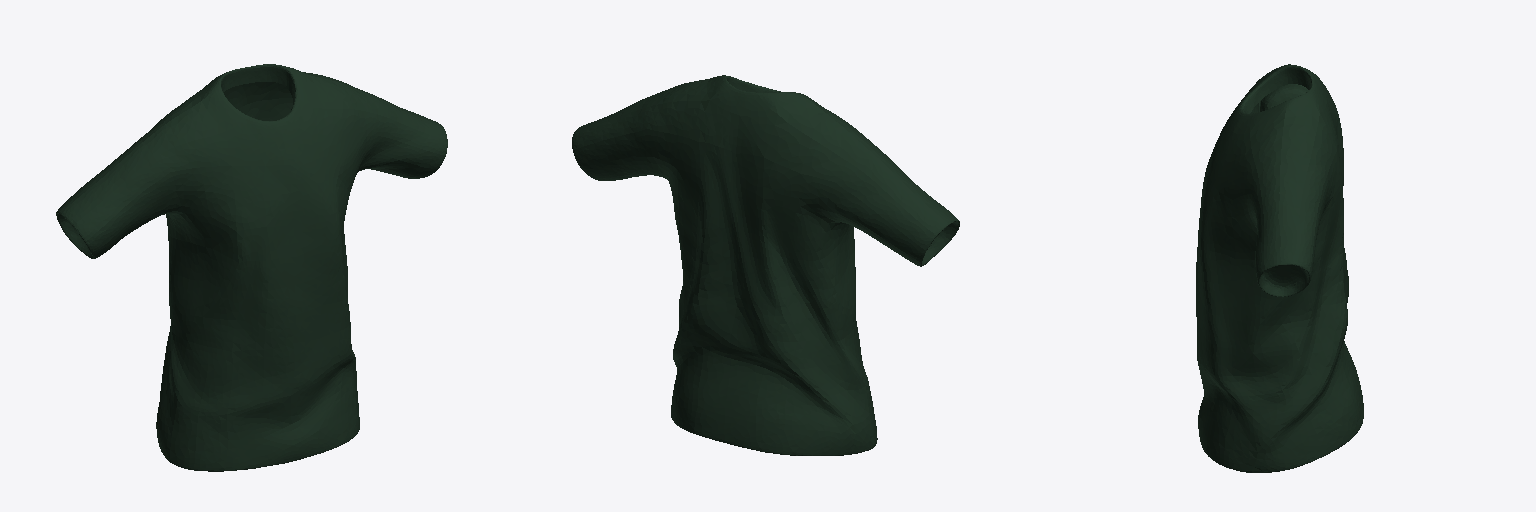
File: shirt_grey.obj
The picture shows the model from 3 angles: view 1: azimuth 30°, elevation 25°; view 2: azimuth 150°, elevation 25°; view 3: azimuth 270°, elevation 25°; orthographic projection.
Parts seen in each view (by area): view 1: 22_GOREPORT_1_20_30; view 2: 22_GOREPORT_1_20_30; view 3: 22_GOREPORT_1_20_30.
Boxes of the visible parts, box(x1,y1,x2,y2) form: 22_GOREPORT_1_20_30: box(56, 64, 447, 471); 22_GOREPORT_1_20_30: box(572, 75, 959, 455); 22_GOREPORT_1_20_30: box(1196, 64, 1363, 472).
Size of the model in its own units: 2.01 by 1.81 by 0.7816.